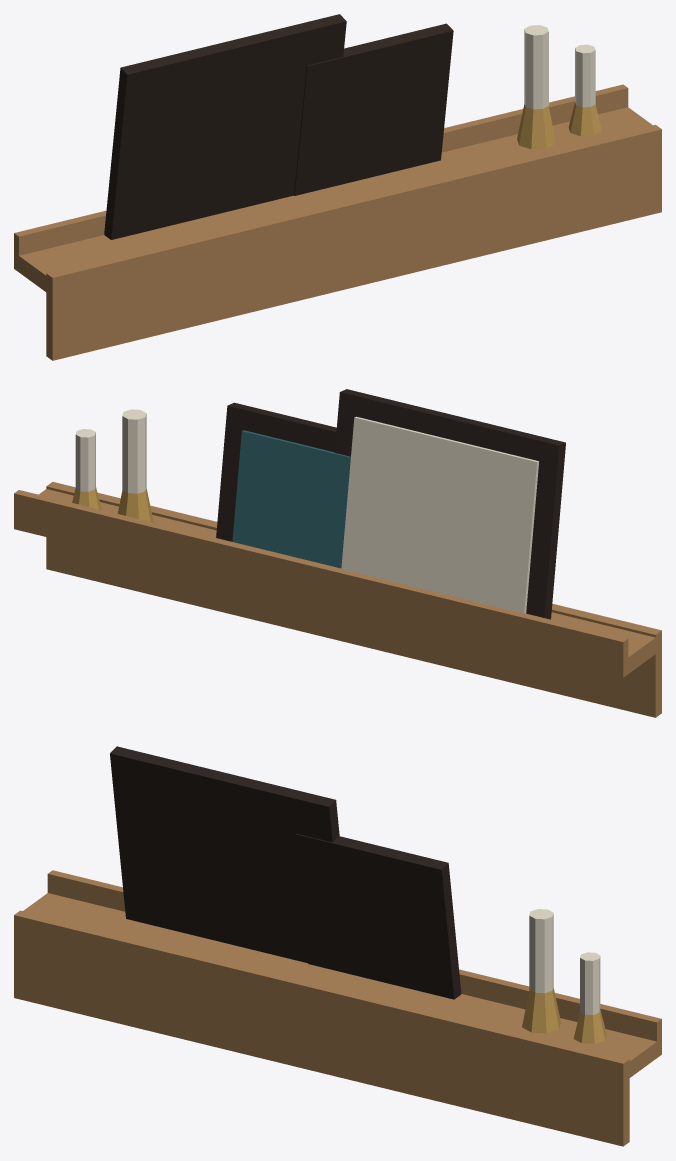
Rendered from FN_Ledge_Picture.glb.
3 renders of one model, top to bottom at view 1: azimuth 30°, elevation 25°; view 2: azimuth 150°, elevation 25°; view 3: azimuth 330°, elevation 25°, orthographic.
Parts seen in each view (by area): view 1: FN_Ledge_Picture; view 2: FN_Ledge_Picture; view 3: FN_Ledge_Picture.
Boxes of the visible parts, <box> form: FN_Ledge_Picture: <box>14,14,661,360</box>; FN_Ledge_Picture: <box>14,389,661,717</box>; FN_Ledge_Picture: <box>14,746,661,1146</box>.
Size of the model in its own units: 1 by 0.4073 by 0.11.
1 material, 1 textured.
